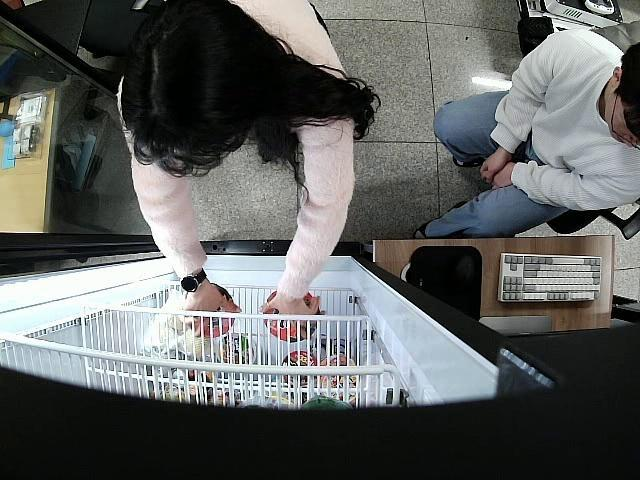01_ShinRamen_L: (262, 290, 320, 344), (194, 286, 236, 340)
